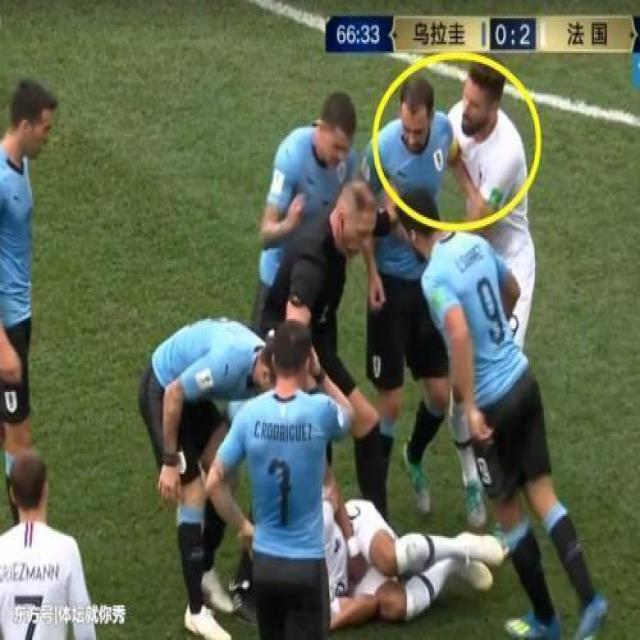fall: (262, 467, 514, 634)
nonfall: (402, 194, 612, 640), (141, 310, 267, 640), (369, 69, 453, 527), (238, 328, 334, 640), (447, 56, 538, 354), (0, 77, 63, 468), (255, 88, 360, 306), (283, 184, 383, 331)
